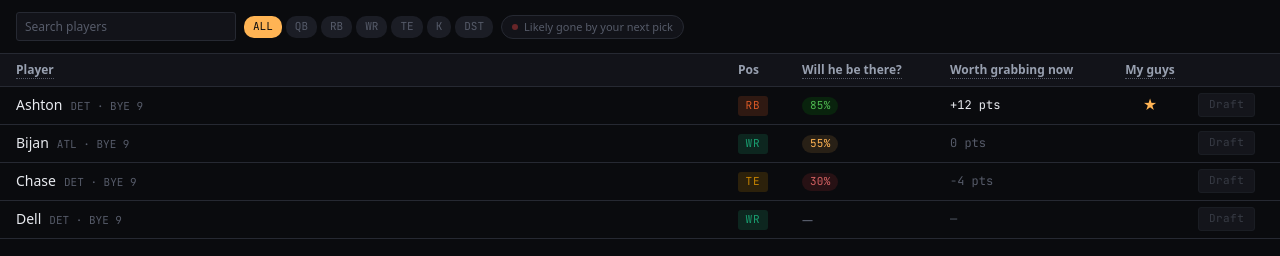
it: the header explains the number, with the count of real drafts behind it
The image size is (1280, 256).
Focus the text "Will he be there?" at x=852, y=70, box [802,61,902,79]
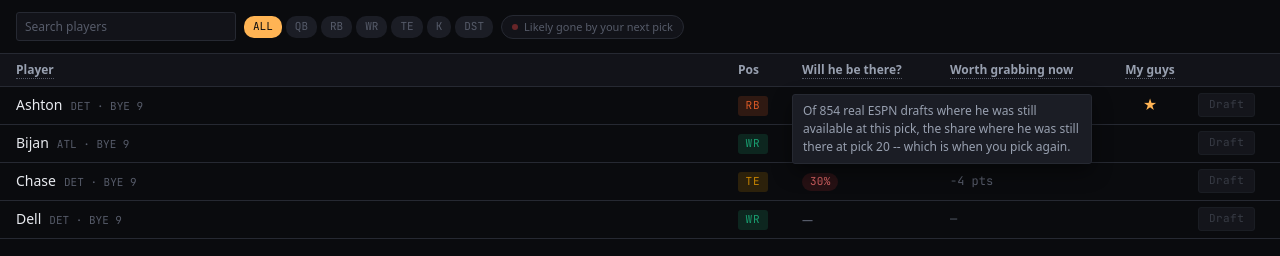
Expected: the tooltip shows "still available at this pick", [803,102,1079,155]
Expected: the tooltip shows "still there at pick 20", [803,102,1079,155]
Expected: the tooltip shows "854 real ESPN drafts", [803,102,1079,155]
Leave the text "Will he be there?", box [802,61,902,79]
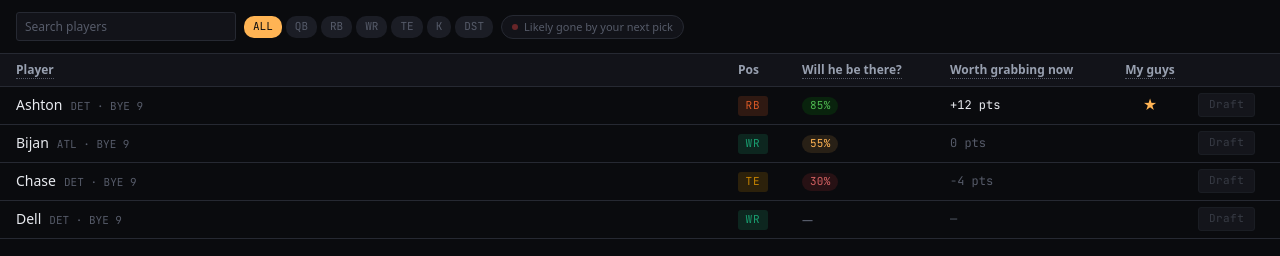
Expected: the tooltip is gone
